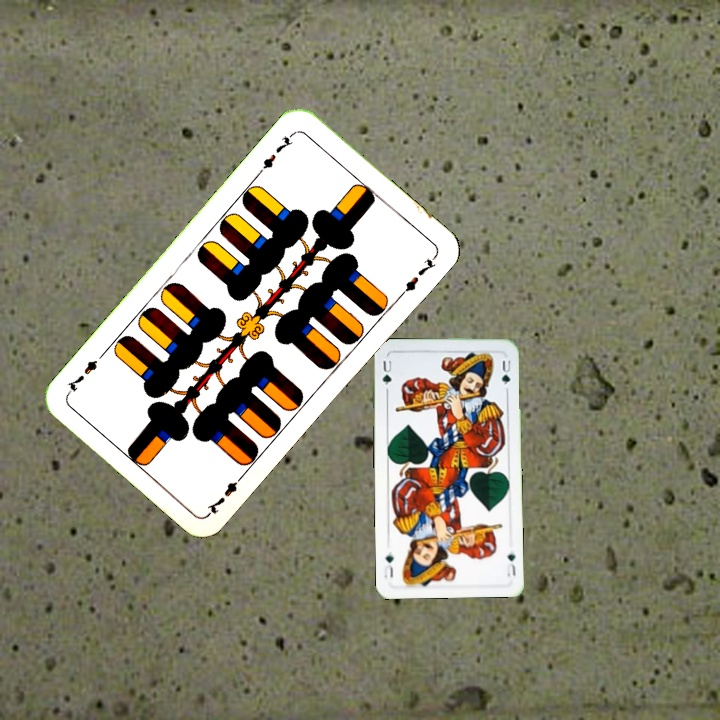E7: (202, 469, 248, 518), (254, 128, 298, 177)
GU: (378, 356, 394, 394), (503, 549, 518, 579)
